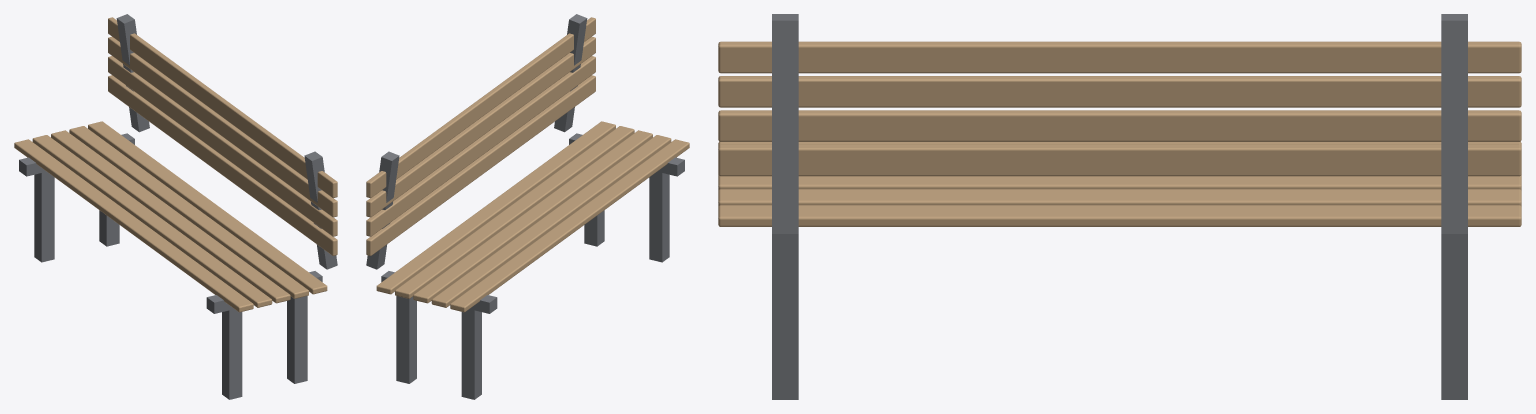
Rendered from bench.glb.
3 renders of one model, left to right at view 1: azimuth 30°, elevation 25°; view 2: azimuth 150°, elevation 25°; view 3: azimuth 270°, elevation 25°, orthographic. The views are drawn at different scales.
Visible parts, largest first — view 1: BackSlat_0, Slat_0, BackSlat_1, Slat_4, BackSlat_2, Slat_2, Slat_1, Slat_3, BackSlat_3, LegV_-0.75, LegV_0.75, LegV2_-0.75 (+5 smaller); view 2: BackSlat_0, Slat_0, BackSlat_1, Slat_4, BackSlat_2, Slat_2, Slat_1, Slat_3, BackSlat_3, LegV_0.75, LegV_-0.75, LegV2_0.75 (+5 smaller); view 3: BackSlat_3, BackSlat_0, BackSlat_2, BackSlat_1, Slat_4, Slat_3, Slat_2, BackSup_-0.75, BackSup_0.75, LegV2_-0.75, LegV2_0.75, Slat_0.
Part boxes in pixels (bbox=[...]): BackSlat_0: bbox=[108, 75, 337, 255]; Slat_0: bbox=[14, 139, 253, 312]; BackSlat_1: bbox=[108, 56, 337, 236]; Slat_4: bbox=[88, 121, 327, 294]; BackSlat_2: bbox=[108, 36, 337, 217]; Slat_2: bbox=[51, 130, 290, 303]; Slat_1: bbox=[32, 135, 272, 307]; Slat_3: bbox=[69, 126, 308, 298]; BackSlat_3: bbox=[108, 17, 337, 198]; LegV_-0.75: bbox=[222, 305, 242, 399]; LegV_0.75: bbox=[34, 169, 54, 262]; LegV2_-0.75: bbox=[287, 296, 307, 383]; BackSlat_0: bbox=[366, 75, 595, 255]; Slat_0: bbox=[450, 139, 689, 312]; BackSlat_1: bbox=[366, 56, 595, 236]; Slat_4: bbox=[376, 121, 615, 294]; BackSlat_2: bbox=[366, 36, 595, 217]; Slat_2: bbox=[413, 130, 652, 303]; Slat_1: bbox=[431, 135, 671, 307]; Slat_3: bbox=[395, 126, 634, 298]; BackSlat_3: bbox=[366, 17, 595, 198]; LegV_0.75: bbox=[461, 305, 481, 399]; LegV_-0.75: bbox=[649, 168, 669, 262]; LegV2_0.75: bbox=[396, 296, 416, 383]; BackSlat_3: bbox=[718, 41, 1521, 73]; BackSlat_0: bbox=[718, 144, 1521, 176]; BackSlat_2: bbox=[718, 76, 1521, 107]; BackSlat_1: bbox=[718, 110, 1521, 141]; Slat_4: bbox=[718, 205, 1521, 226]; Slat_3: bbox=[718, 189, 1521, 206]; Slat_2: bbox=[718, 175, 1521, 190]; BackSup_-0.75: bbox=[772, 14, 798, 233]; BackSup_0.75: bbox=[1441, 14, 1467, 233]; LegV2_-0.75: bbox=[772, 253, 798, 399]; LegV2_0.75: bbox=[1441, 253, 1467, 399]; Slat_0: bbox=[718, 141, 1521, 146].
Size of the model in its own units: 0.5695 by 0.971 by 1.8.
